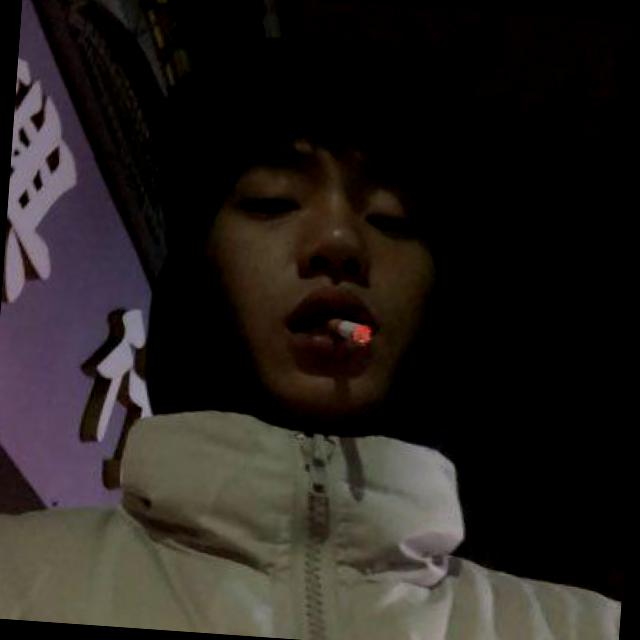smoke: (296, 301, 396, 359)
